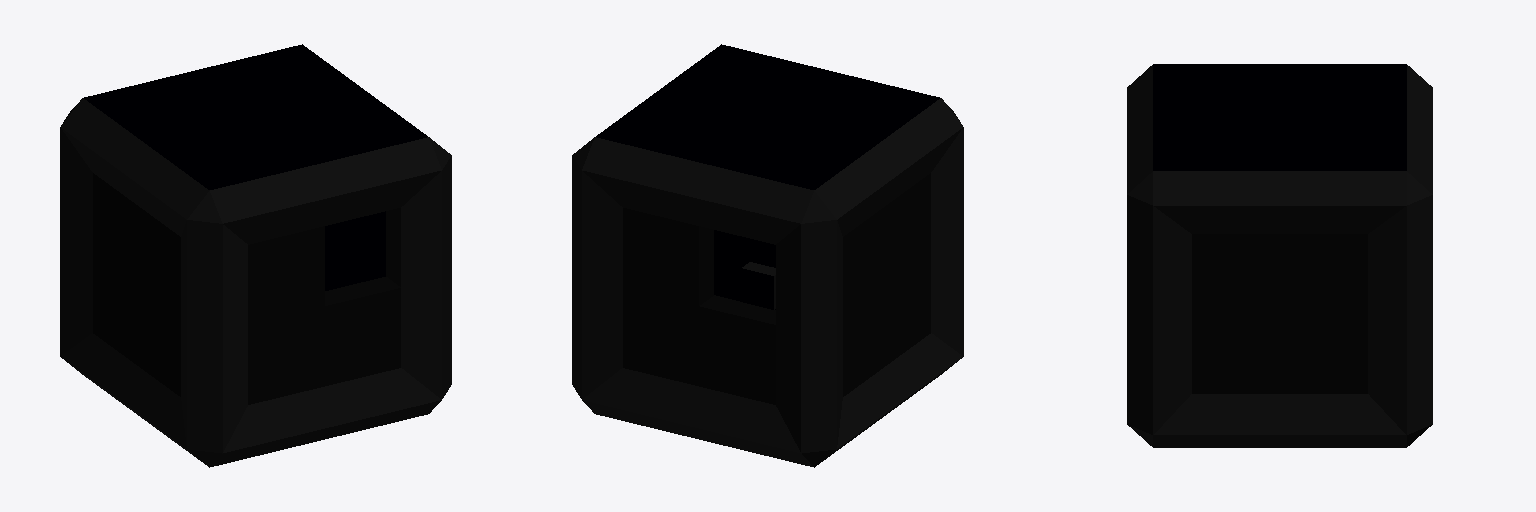
File: MetalBox.obj
3 views of the same model, side by side, from view 1: azimuth 30°, elevation 25°; view 2: azimuth 150°, elevation 25°; view 3: azimuth 270°, elevation 25° (orthographic).
Visible parts, largest first — view 1: Cube; view 2: Cube; view 3: Cube.
Boxes of the visible parts, <box> form: Cube: <box>60,44,451,467</box>; Cube: <box>572,44,963,467</box>; Cube: <box>1127,64,1432,447</box>.
Bounding box in the file's own units: 2 × 2 × 2.